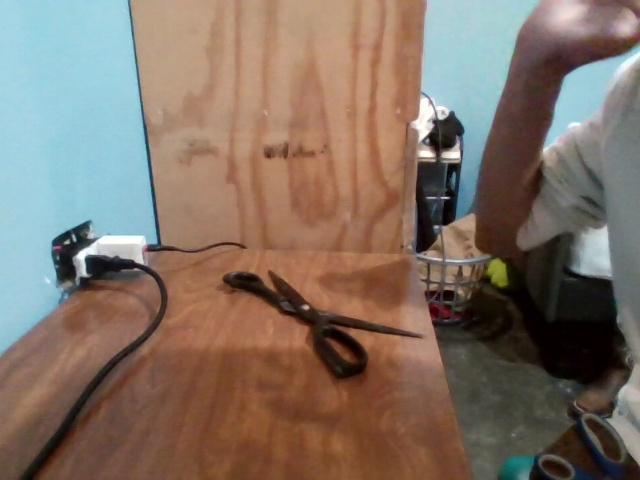tijeras: (218, 263, 375, 382)
